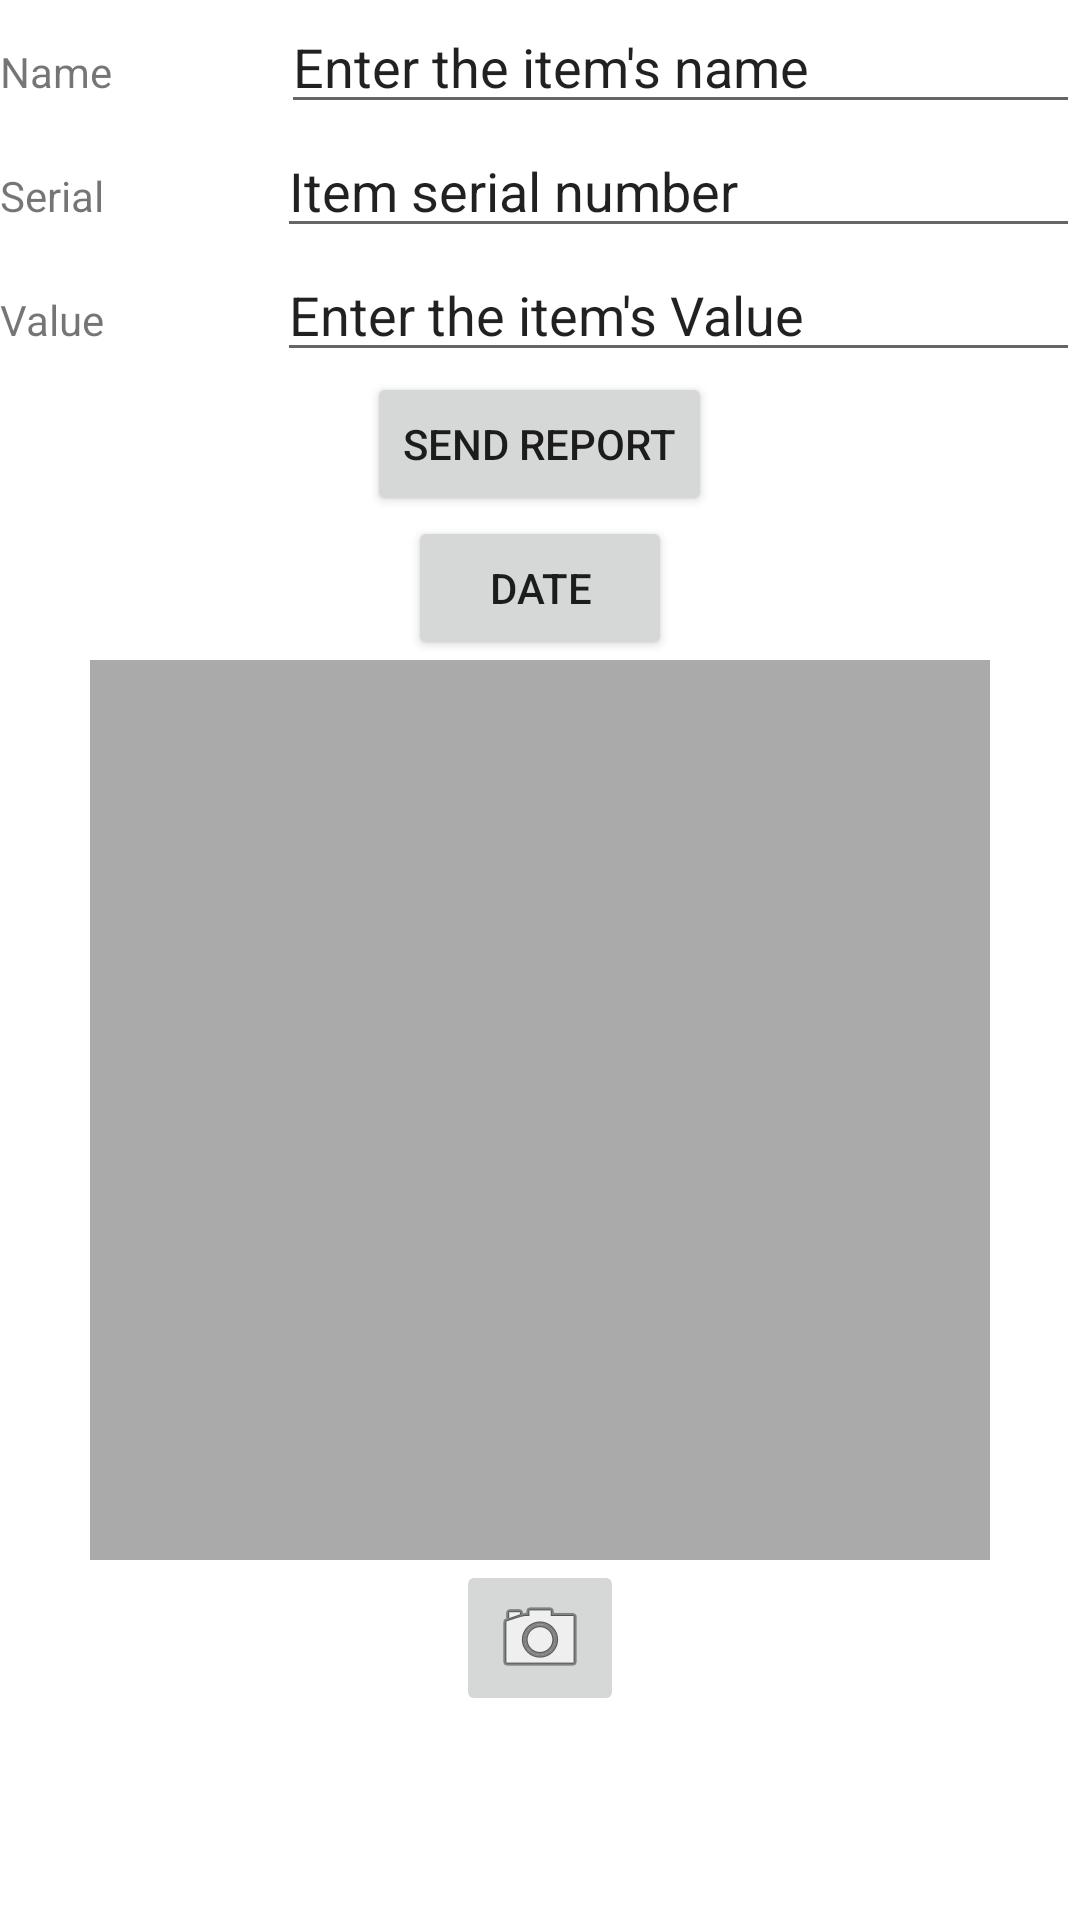

Screen size 1080*1920. Icon name, then its box in pixels as (x1, y1, x2, y2):
camera: (468, 1578, 612, 1698)
